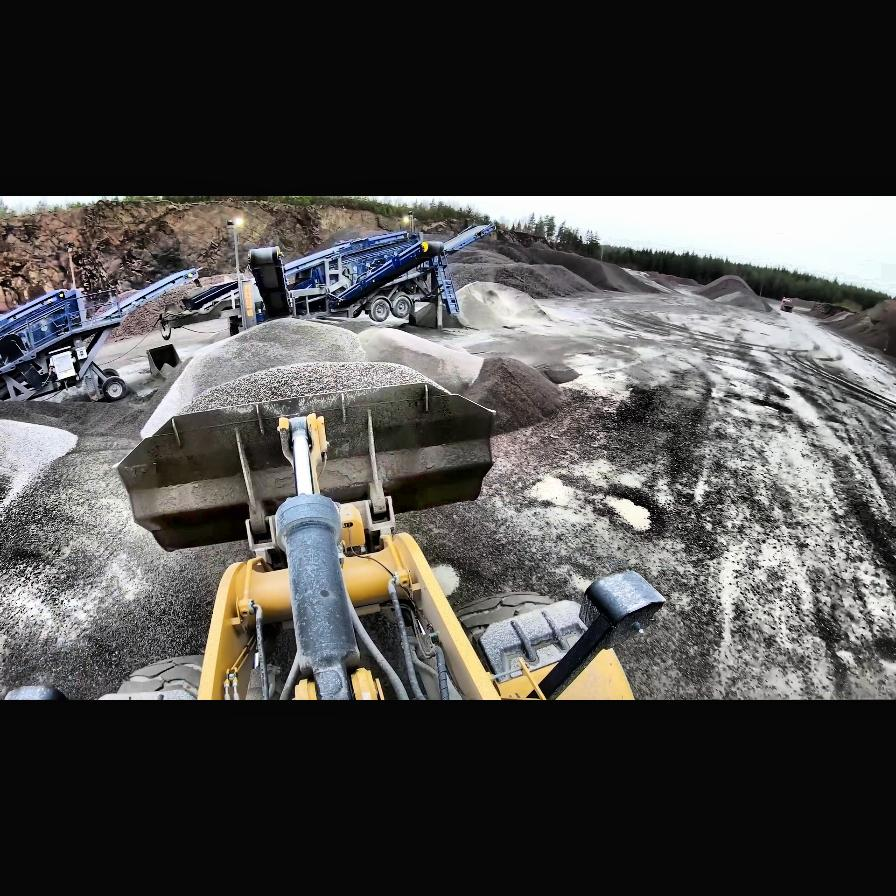anchor: (277, 412, 329, 496)
pile of gravel: (138, 310, 582, 444), (809, 298, 895, 360), (463, 259, 581, 303), (460, 280, 546, 330), (574, 260, 664, 293), (692, 274, 766, 304), (800, 300, 860, 320)
